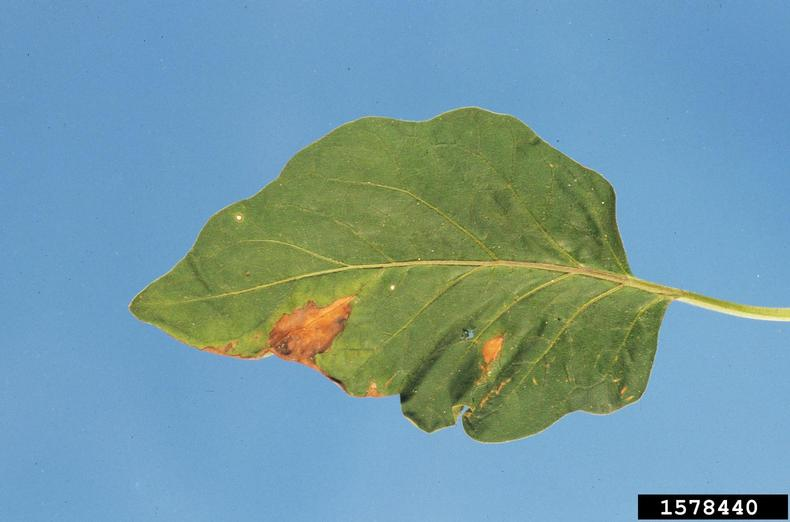Eggplant_PhytophthoraBlight: (164, 112, 668, 424)
